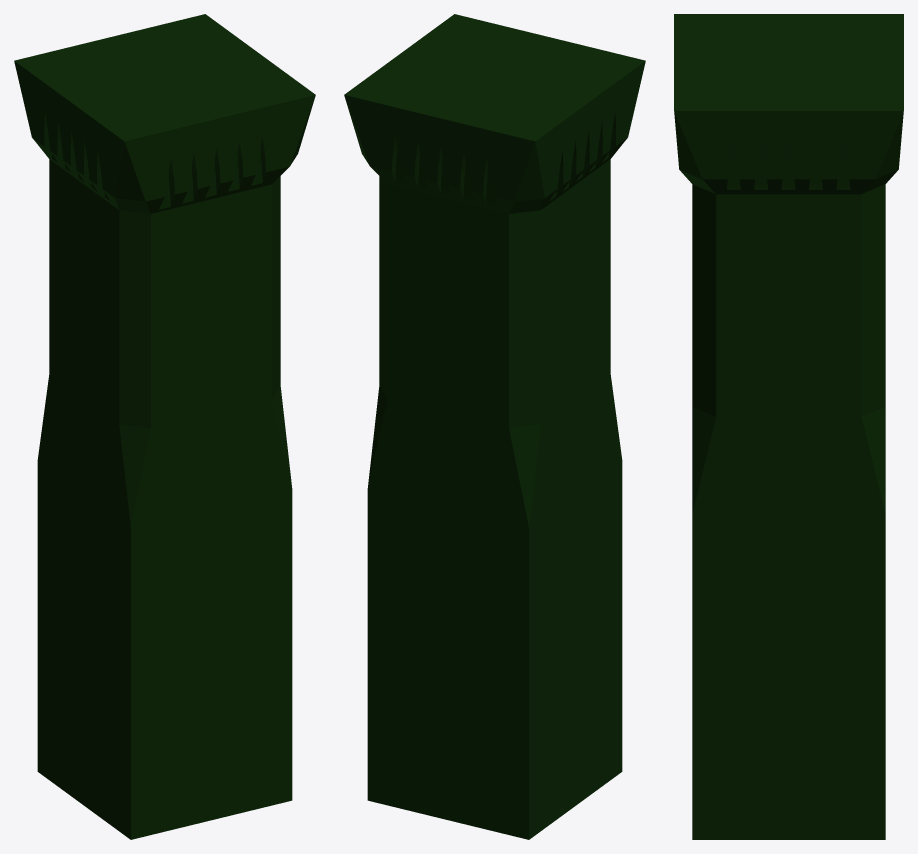
File: tower3.fbx
The picture shows the model from 3 angles, left to right: view 1: azimuth 30°, elevation 25°; view 2: azimuth 150°, elevation 25°; view 3: azimuth 270°, elevation 25°; orthographic projection. The views are drawn at different scales.
Visible parts, largest first — view 1: tower3; view 2: tower3; view 3: tower3.
Part boxes in pixels (<box>): tower3: <box>14,14,315,839</box>; tower3: <box>344,14,645,839</box>; tower3: <box>674,14,903,839</box>.
Bounding box in the file's own units: 1.83 × 6.47 × 1.83.
